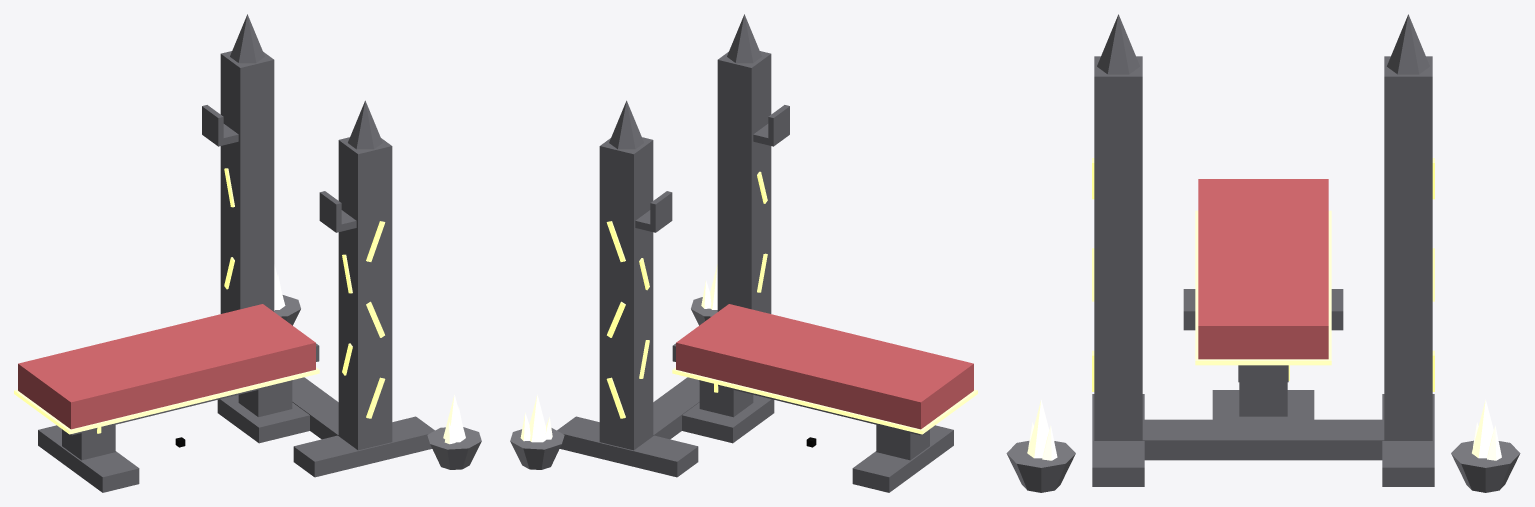
Rendered from Inferno_Bench.fbx.
3 views of the same model, side by side, from view 1: azimuth 30°, elevation 25°; view 2: azimuth 150°, elevation 25°; view 3: azimuth 270°, elevation 25° (orthographic). The views are drawn at different scales.
Visible parts, largest first — view 1: Inferno_Frame, Inferno_Pad, Inferno_Bowls, Inferno_Trim, Inferno_Lava, Inferno_Flames; view 2: Inferno_Frame, Inferno_Pad, Inferno_Bowls, Inferno_Trim, Inferno_Lava, Inferno_Flames; view 3: Inferno_Frame, Inferno_Pad, Inferno_Bowls, Inferno_Trim, Inferno_Flames, Inferno_Lava.
Boxes of the visible parts, bbox=[...] form: Inferno_Frame: bbox=[38, 14, 434, 492]; Inferno_Pad: bbox=[18, 304, 315, 429]; Inferno_Bowls: bbox=[274, 295, 481, 469]; Inferno_Trim: bbox=[14, 367, 319, 434]; Inferno_Lava: bbox=[97, 168, 385, 433]; Inferno_Flames: bbox=[274, 264, 465, 444]; Inferno_Frame: bbox=[557, 14, 953, 492]; Inferno_Pad: bbox=[676, 304, 973, 429]; Inferno_Bowls: bbox=[510, 297, 717, 469]; Inferno_Trim: bbox=[672, 367, 977, 434]; Inferno_Lava: bbox=[606, 171, 767, 418]; Inferno_Flames: bbox=[520, 264, 717, 442]; Inferno_Frame: bbox=[1092, 14, 1434, 486]; Inferno_Pad: bbox=[1198, 179, 1328, 359]; Inferno_Bowls: bbox=[1006, 440, 1520, 492]; Inferno_Trim: bbox=[1195, 210, 1331, 365]; Inferno_Flames: bbox=[1027, 399, 1501, 460]; Inferno_Lava: bbox=[1092, 158, 1434, 391].
Size of the model in its own units: 5.71 by 5.63 by 5.96.
